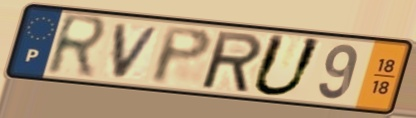9: (315, 42, 359, 101)
P: (149, 24, 215, 87)
R: (43, 11, 111, 81), (201, 29, 265, 95)
U: (247, 31, 326, 99)
V: (111, 22, 165, 81)
